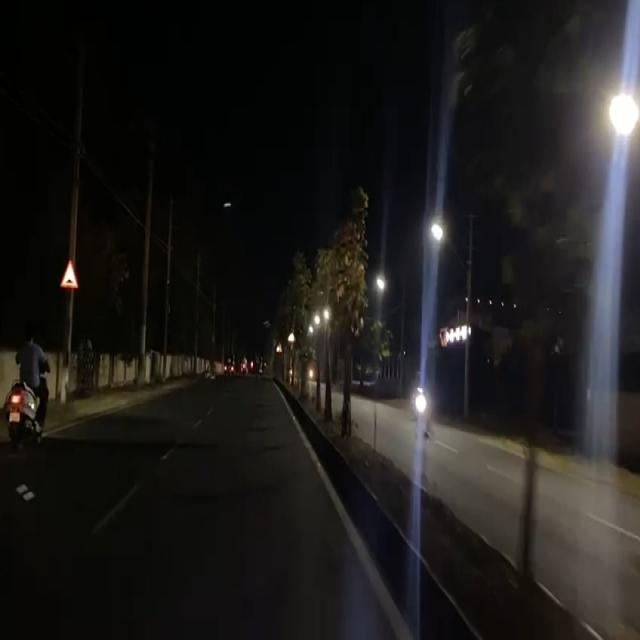bien_nguy_hiem: (60, 257, 78, 292)
